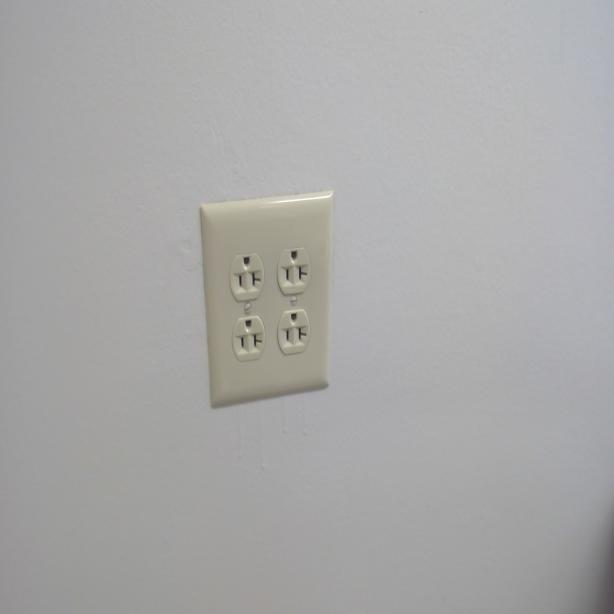typeb: (277, 246, 310, 298), (231, 252, 263, 300), (278, 310, 310, 356), (232, 316, 266, 358)
